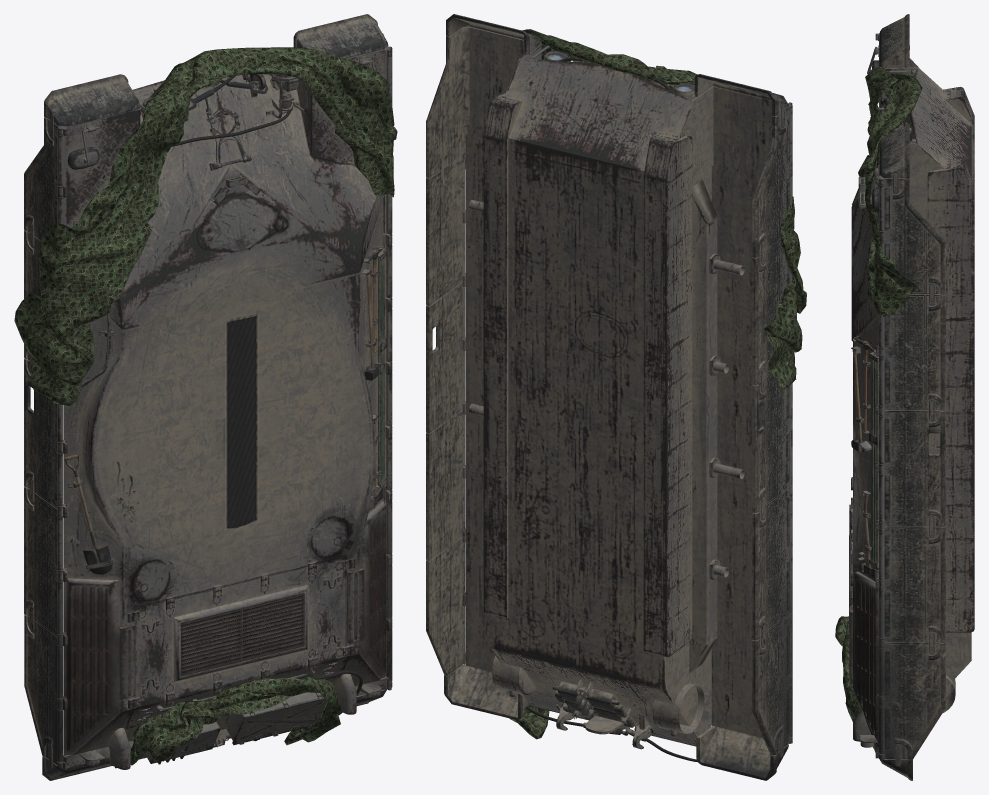
Rendered from Hull.glb.
3 renders of one model, left to right at view 1: azimuth 30°, elevation 25°; view 2: azimuth 150°, elevation 25°; view 3: azimuth 270°, elevation 25°, orthographic. The views are drawn at different scales.
Visible parts, largest first — view 1: set_0_group_0, set_0_group_1; view 2: set_0_group_0, set_0_group_1; view 3: set_0_group_0, set_0_group_1.
Part boxes in pixels (x1,y1,x2,y2): set_0_group_0: [24, 14, 392, 780]; set_0_group_1: [14, 47, 397, 765]; set_0_group_0: [426, 14, 792, 780]; set_0_group_1: [465, 29, 806, 739]; set_0_group_0: [849, 14, 974, 780]; set_0_group_1: [835, 68, 922, 752].
Bounding box in the file's own units: 3.49 × 6.57 × 1.29.
2 materials, 2 textured.
